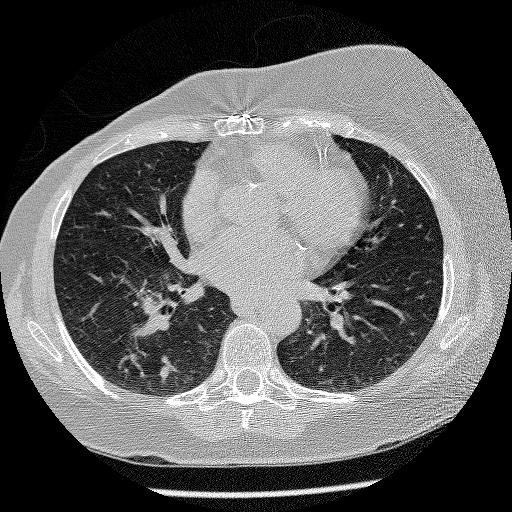nodule: (157, 366, 171, 380)
